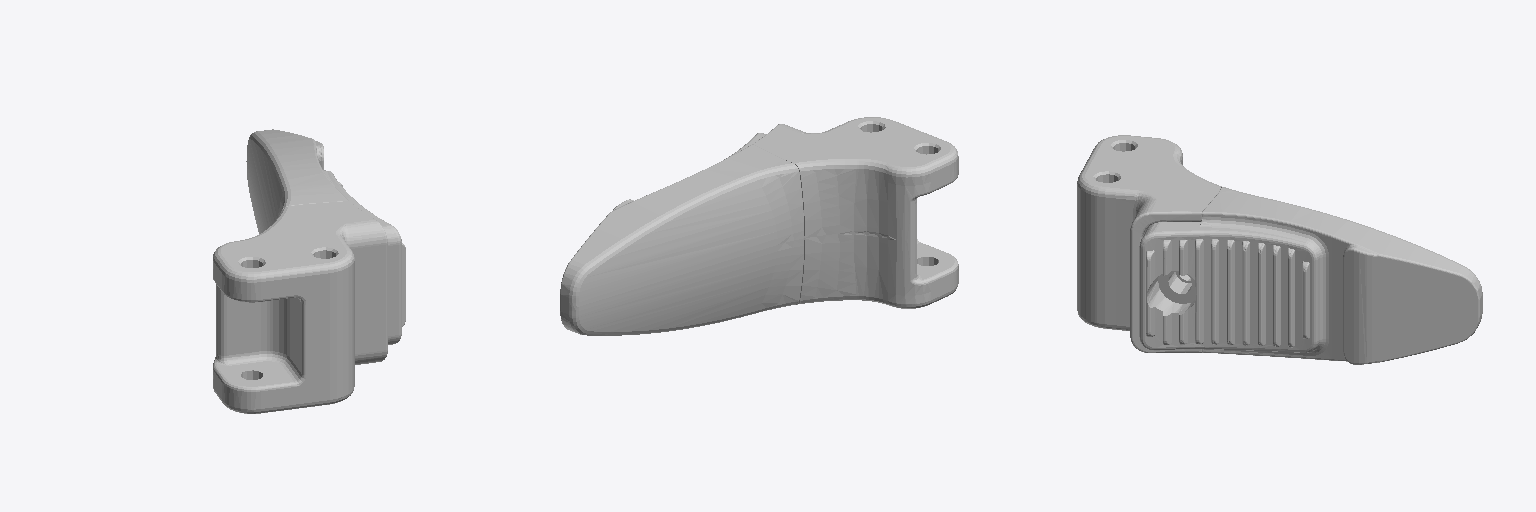
Rendered from r_b_fingers.obj.
3 renders of one model, left to right at view 1: azimuth 30°, elevation 25°; view 2: azimuth 150°, elevation 25°; view 3: azimuth 270°, elevation 25°, orthographic.
Visible parts, largest first — view 1: obj1; view 2: obj1; view 3: obj1.
Boxes of the visible parts, x1,y1,x2,y2 form: obj1: [213, 129, 405, 413]; obj1: [560, 117, 958, 335]; obj1: [1077, 135, 1482, 364].
Bounding box in the file's own units: 0.0323 × 0.02 × 0.0521.